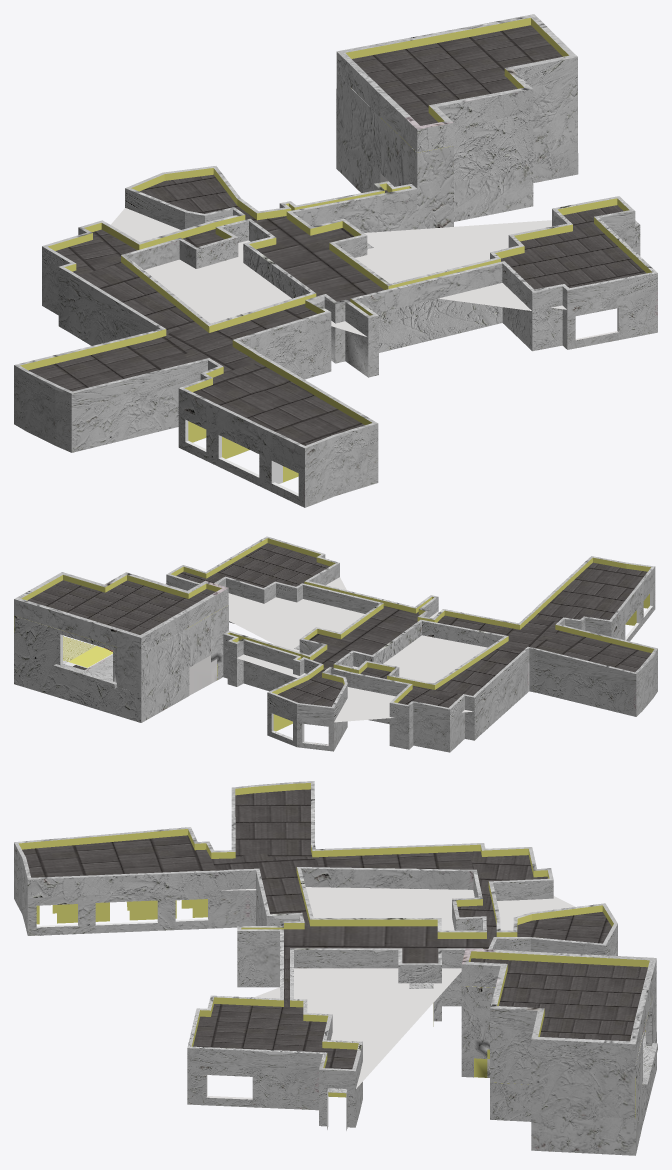
The model's file is School walls.fbx.
3 renders of one model, top to bottom at view 1: azimuth 30°, elevation 25°; view 2: azimuth 150°, elevation 25°; view 3: azimuth 270°, elevation 25°, orthographic. The views are drawn at different scales.
Visible parts, largest first — view 1: School; view 2: School; view 3: School.
Boxes of the visible parts, bbox=[...] form: School: bbox=[14, 14, 657, 507]; School: bbox=[14, 536, 657, 752]; School: bbox=[14, 781, 657, 1155].
Size of the model in its own units: 425 by 69.98 by 362.
1 material, 1 textured.
